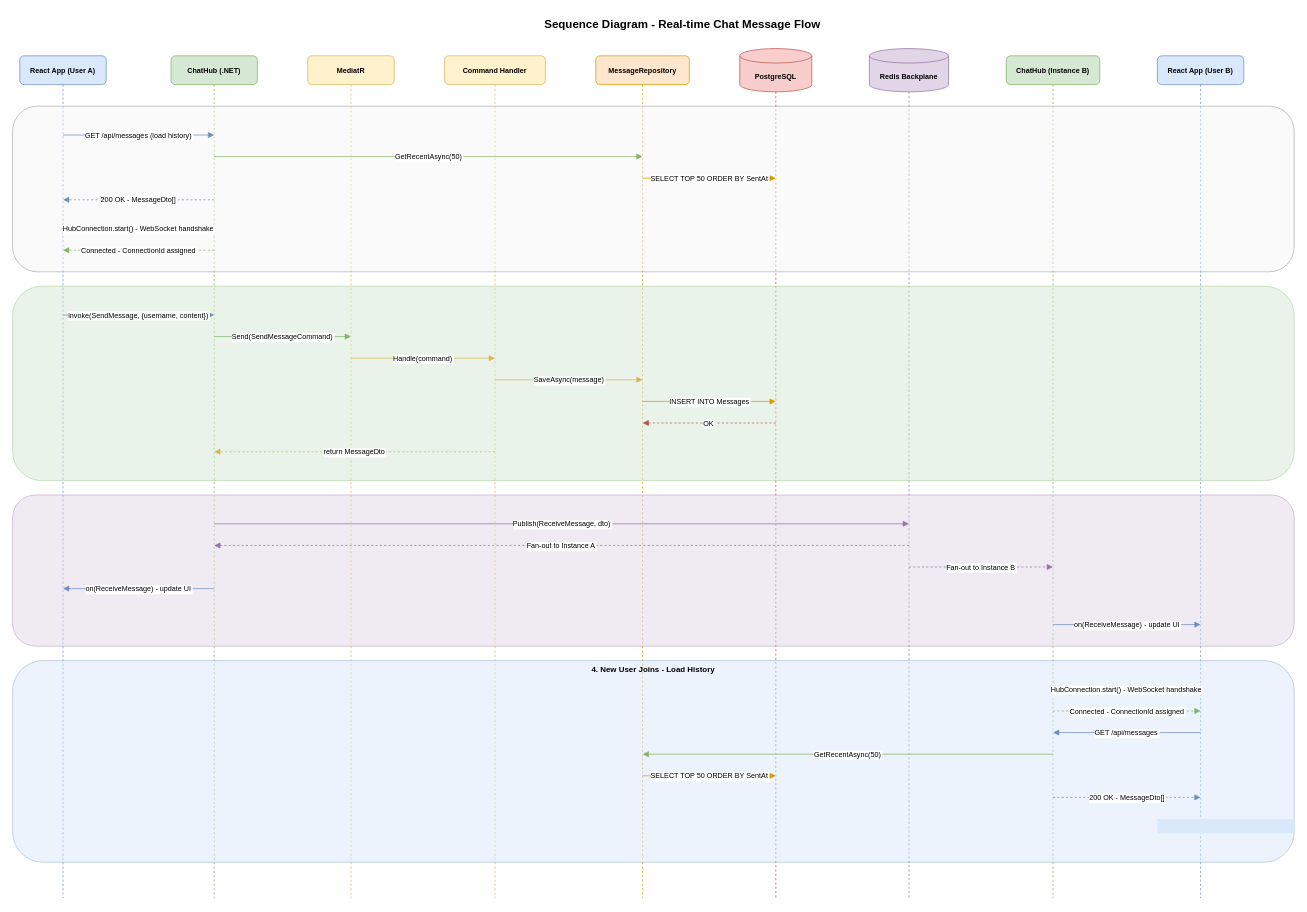
This 1307x912 diagram has some shape labels left out. The centre of each missing label's shape, as x and y in pixels:
"1. App Startup and Connection" belongs at [653,188].
"2. User Sends a Message" belongs at [653,383].
"3. Broadcast via Redis Backplane" belongs at [653,570].
"Render existing chat history" belongs at [1225,826].
